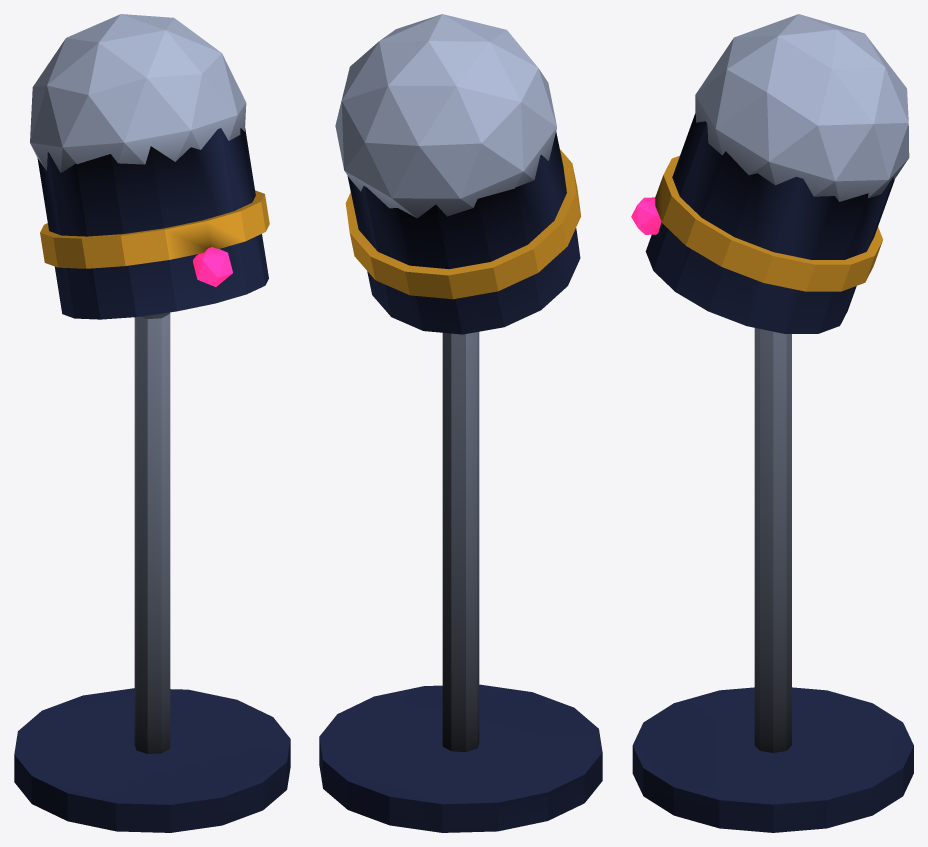
The model's file is obj-mic.glb.
The picture shows the model from 3 angles, left to right: view 1: azimuth 30°, elevation 25°; view 2: azimuth 150°, elevation 25°; view 3: azimuth 270°, elevation 25°; orthographic projection. The views are drawn at different scales.
Parts seen in each view (by area): view 1: Cylinder.008, Cylinder.010, Icosphere.004, Cylinder.009, Cylinder.011, GLOW_onair; view 2: Icosphere.004, Cylinder.008, Cylinder.010, Cylinder.009, Cylinder.011; view 3: Cylinder.008, Icosphere.004, Cylinder.010, Cylinder.009, Cylinder.011, GLOW_onair.
Boxes of the visible parts, <box> form: Cylinder.008: <box>14,688,290,832</box>; Cylinder.010: <box>37,128,268,319</box>; Icosphere.004: <box>30,14,246,172</box>; Cylinder.009: <box>134,312,170,753</box>; Cylinder.011: <box>40,190,269,268</box>; GLOW_onair: <box>193,247,232,286</box>; Icosphere.004: <box>335,14,556,218</box>; Cylinder.008: <box>319,684,602,832</box>; Cylinder.010: <box>347,132,580,334</box>; Cylinder.009: <box>442,332,479,751</box>; Cylinder.011: <box>345,149,580,299</box>; Cylinder.008: <box>632,687,913,832</box>; Icosphere.004: <box>695,14,909,201</box>; Cylinder.010: <box>645,113,894,333</box>; Cylinder.009: <box>754,328,791,752</box>; Cylinder.011: <box>655,155,882,291</box>; GLOW_onair: <box>631,197,661,234</box>.
Bounding box in the file's own units: 0.9 × 2.63 × 0.905.
